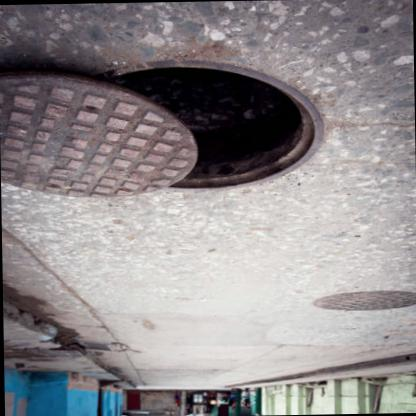manholes: (0, 41, 351, 236), (306, 277, 416, 335)
